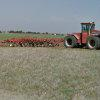Tractor: (58, 16, 100, 59)
